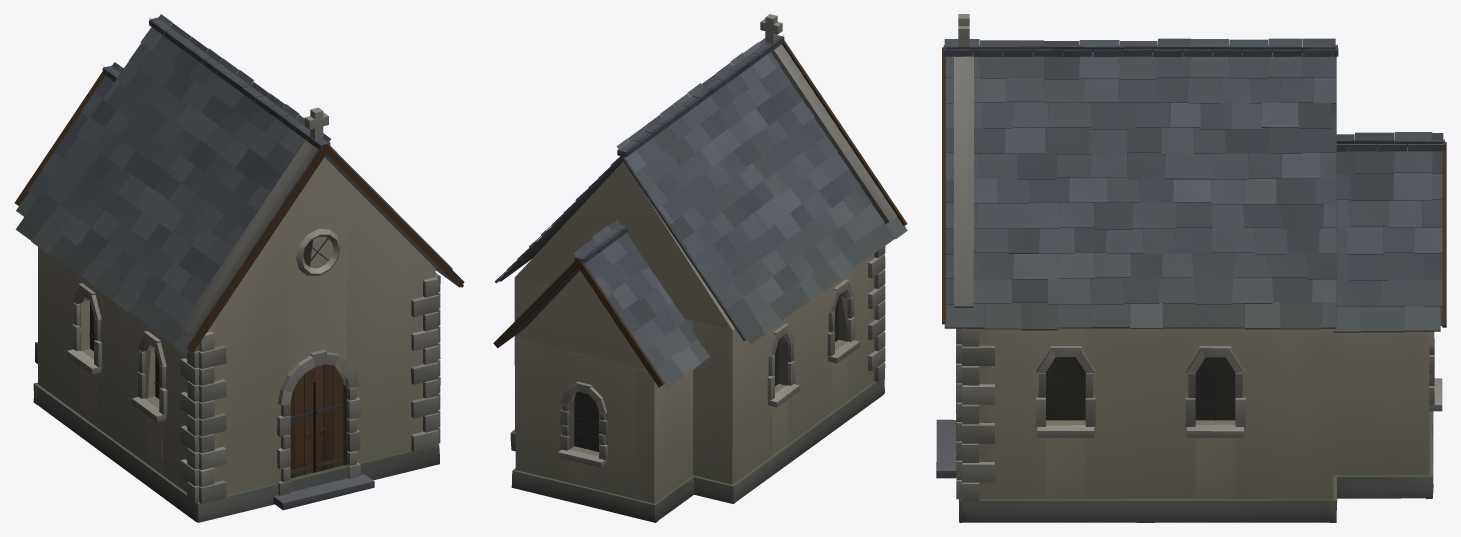
File: ph_bld_chapel_l1.glb
3 renders of one model, left to right at view 1: azimuth 30°, elevation 25°; view 2: azimuth 150°, elevation 25°; view 3: azimuth 270°, elevation 25°, orthographic. The views are drawn at different scales.
Visible parts, largest first — view 1: ph_bld_chapel_l1; view 2: ph_bld_chapel_l1; view 3: ph_bld_chapel_l1.
Part boxes in pixels (box(x1,y1,x2,y2)): ph_bld_chapel_l1: box(14, 14, 464, 522); ph_bld_chapel_l1: box(493, 14, 907, 522); ph_bld_chapel_l1: box(936, 14, 1446, 522).
Size of the model in its own units: 5.21 by 6.8 by 7.16.
